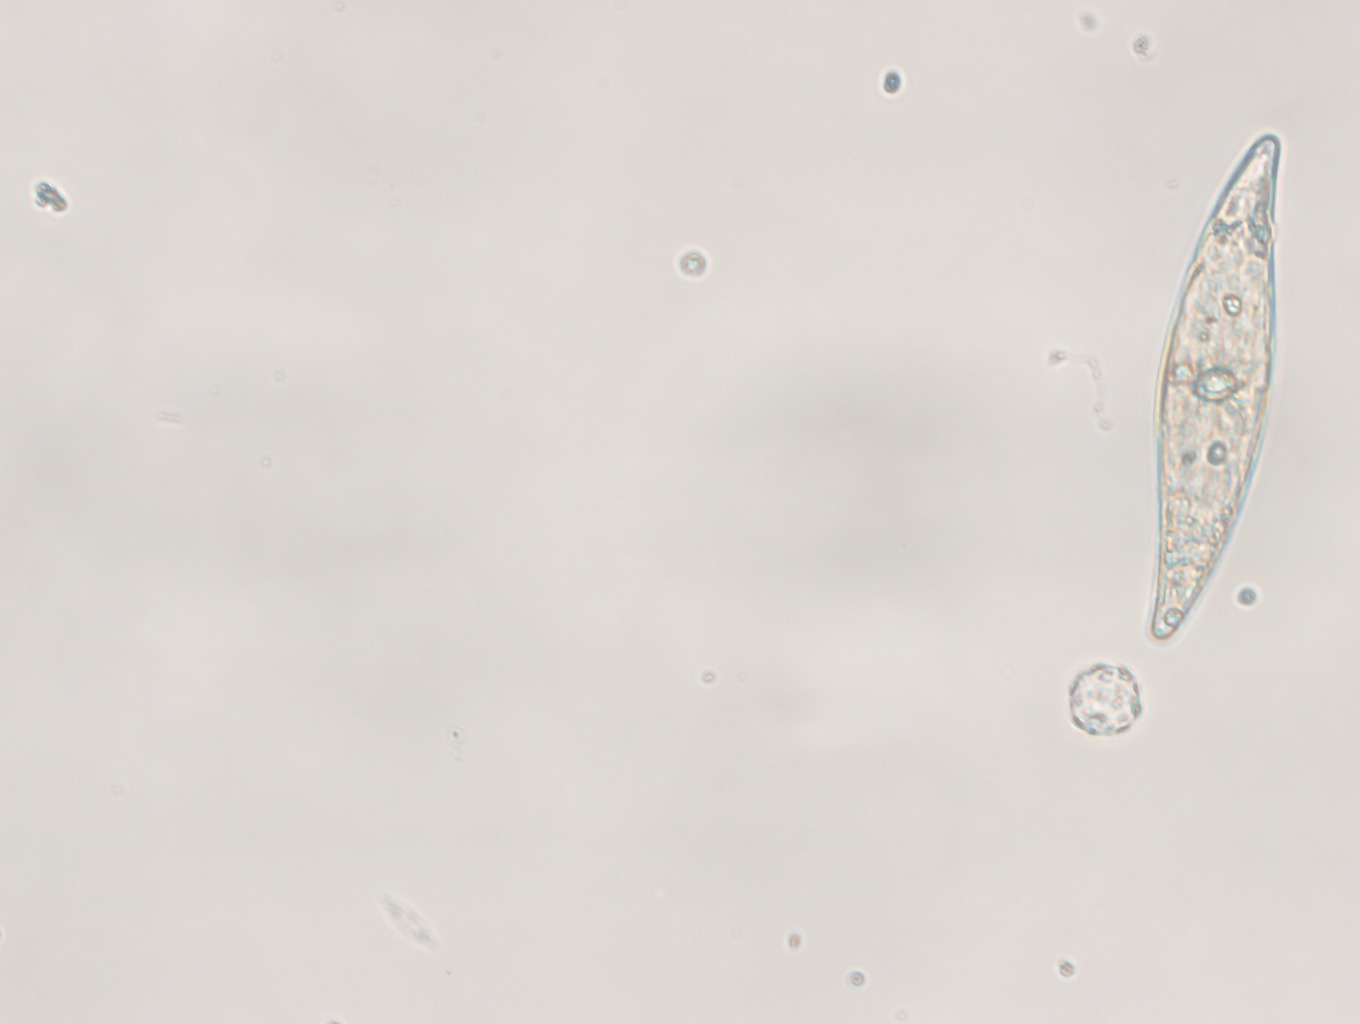pleurosigma pelagicum: (1148, 131, 1280, 639)
